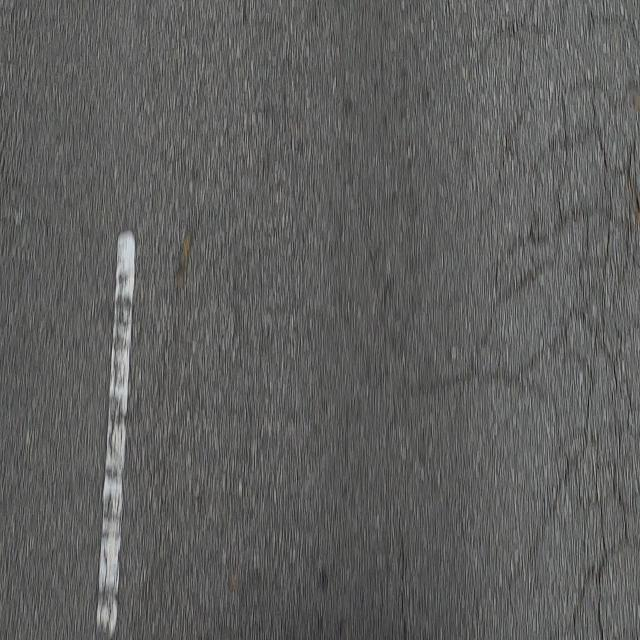Retak-Buaya: (464, 1, 640, 640)
